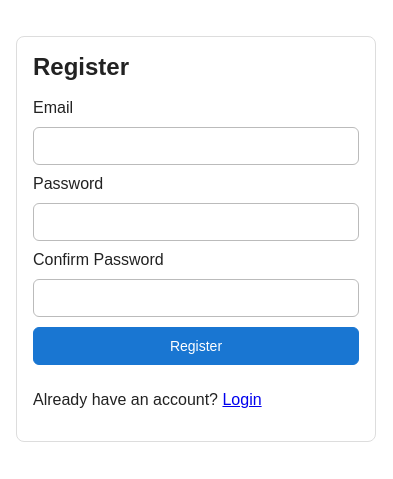
Test: RegisterPage › shows validation error when confirm password does not match
The image size is (393, 479).
Type "user@example.com" into the field labelled "Email" at [196, 146], box left=33, top=127, right=359, bottom=165
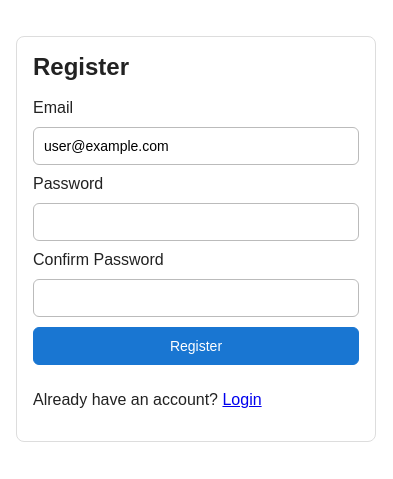
Type "password123" into the password field labelled "Password" at [196, 222], box left=33, top=203, right=359, bottom=241
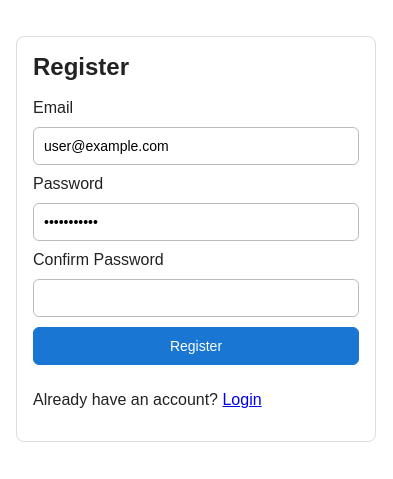
Type "password999" into the password field labelled "Confirm Password" at [196, 298], box left=33, top=279, right=359, bottom=317
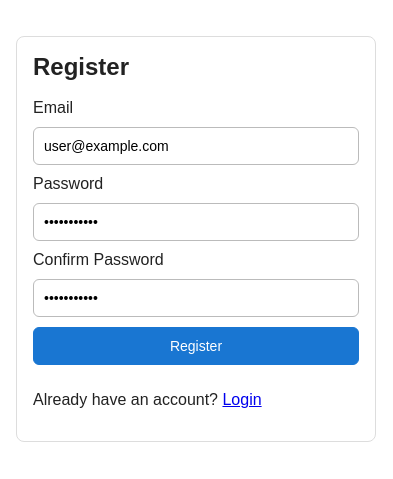
Click the button "Register" at [196, 346], box left=33, top=327, right=359, bottom=365
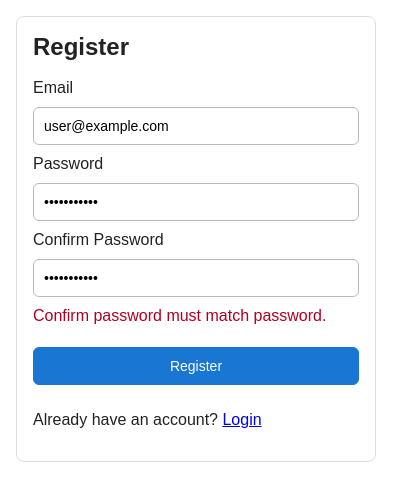
Expected: the text "Confirm password must match password." is shown, left=33, top=307, right=359, bottom=325
